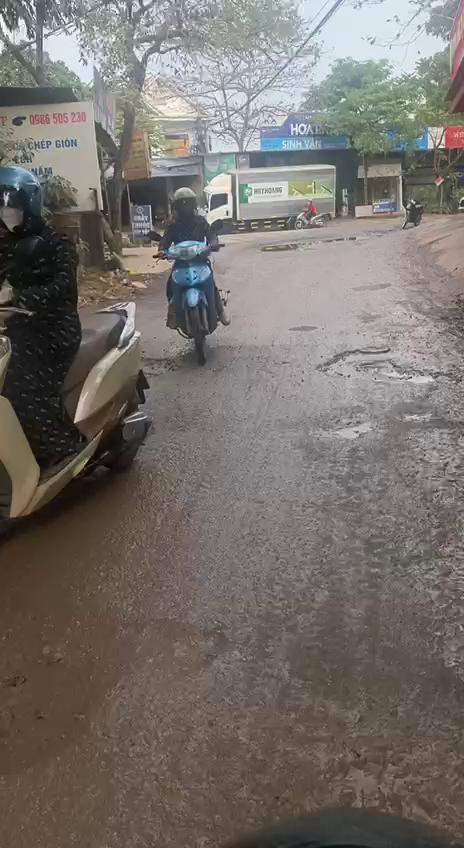pothole: (0, 582, 154, 773), (319, 336, 457, 392)
